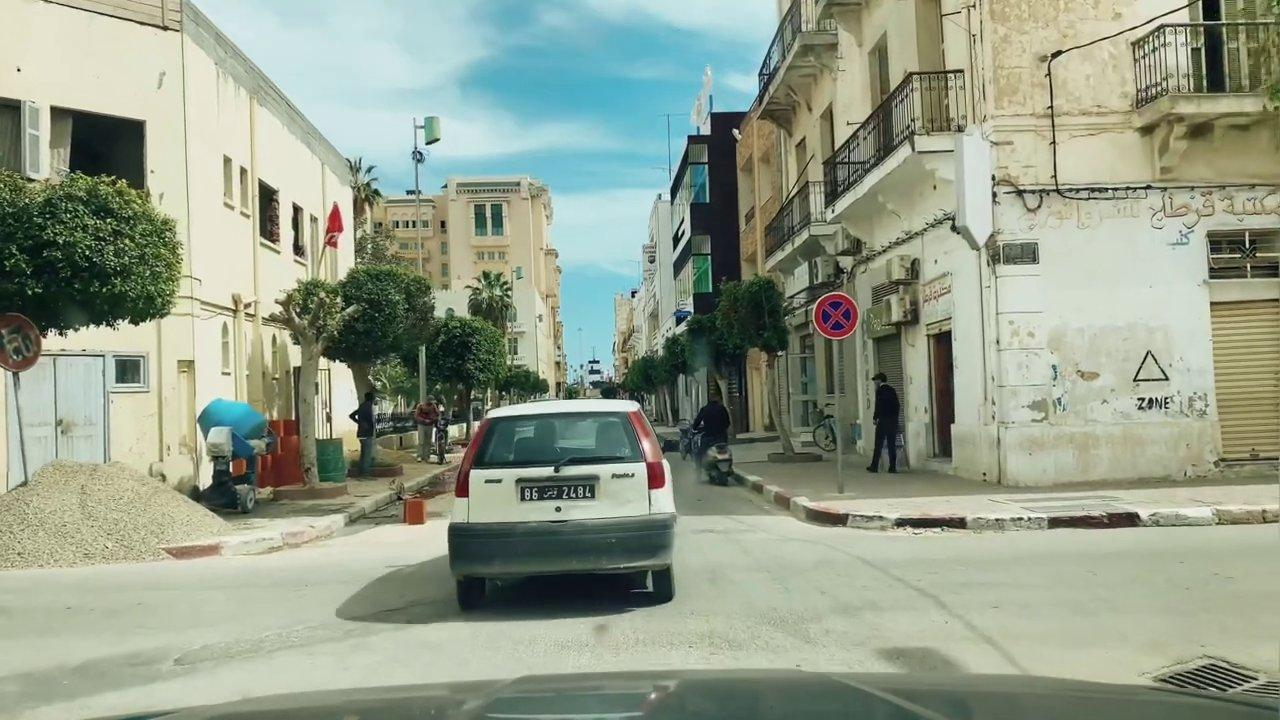no stopping: (811, 290, 862, 339)
